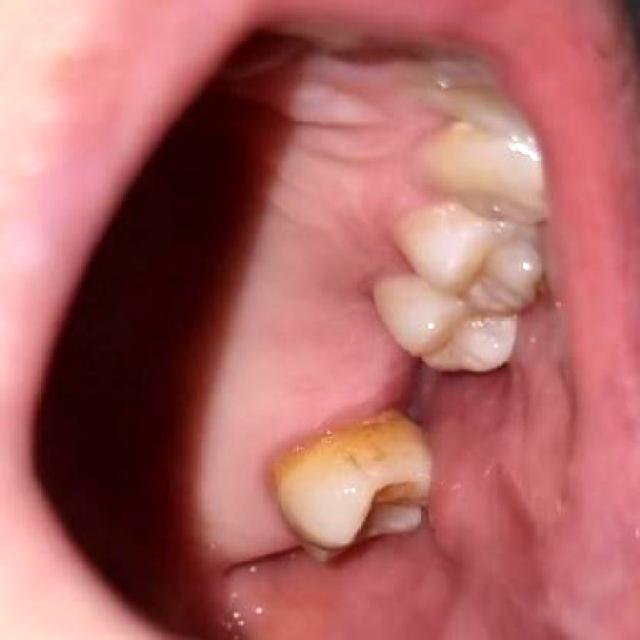Plaque: (242, 378, 402, 539)
